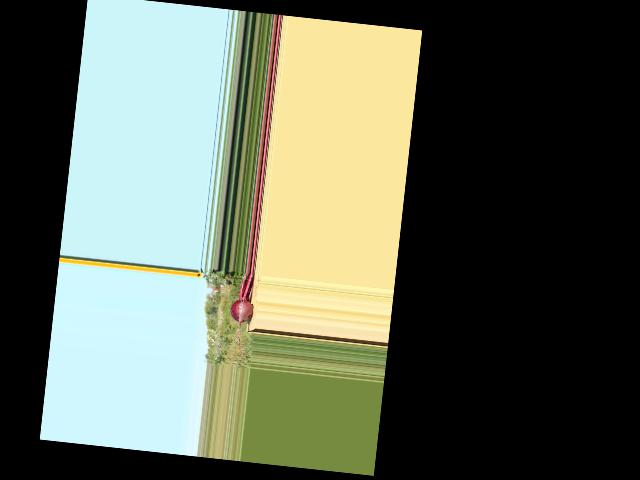beet: (225, 270, 257, 365)
